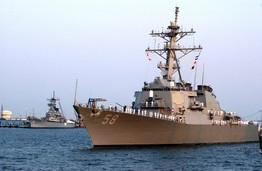warship: (71, 5, 262, 150), (16, 91, 74, 129)
